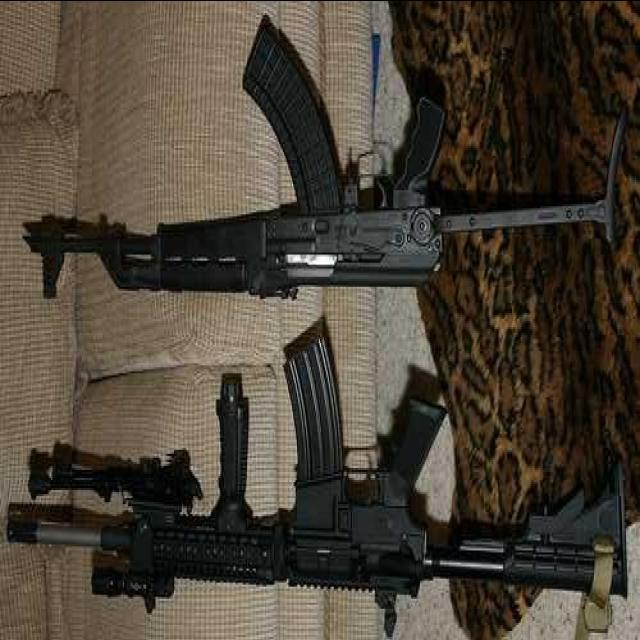heavyweapon: (8, 1, 640, 339), (6, 319, 640, 621)
